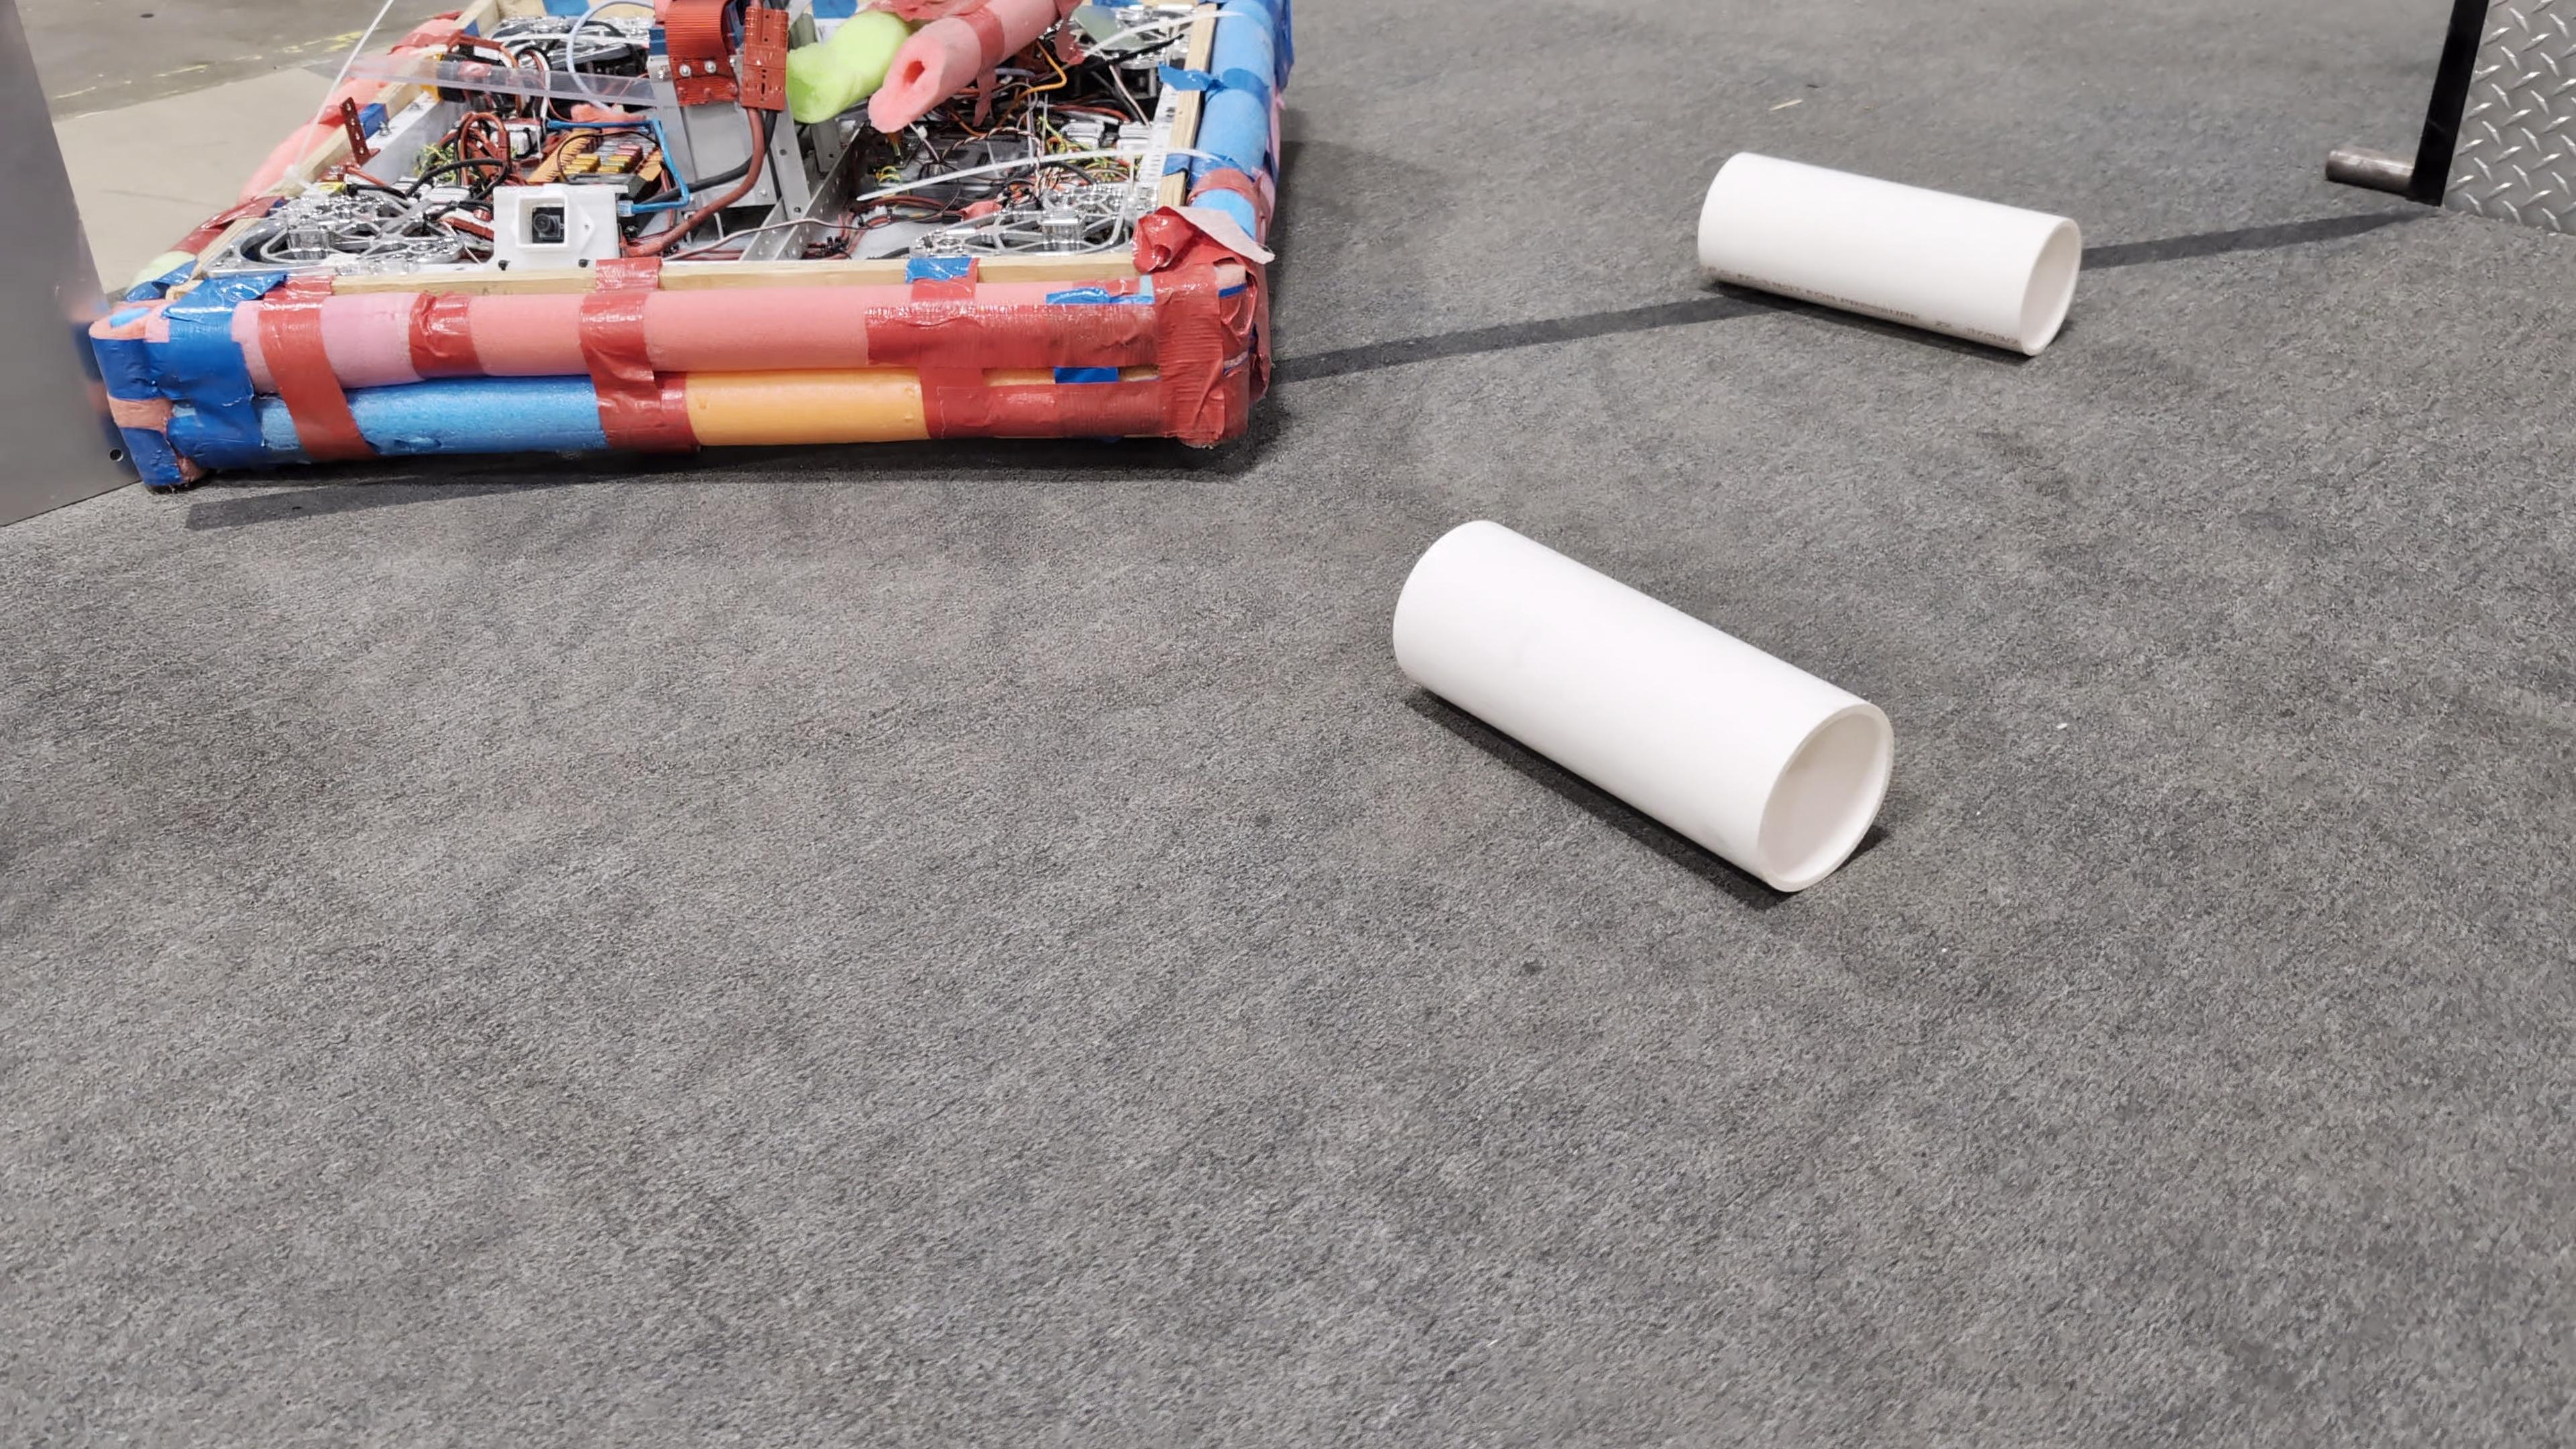coral: (1389, 515, 1897, 892), (1697, 149, 2084, 357)
